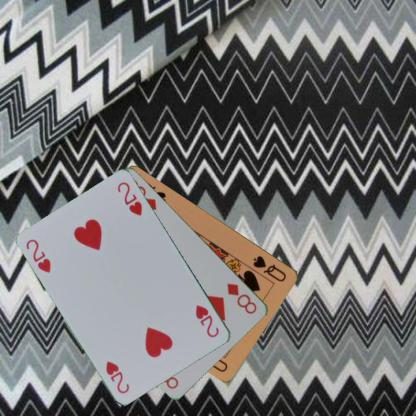2h: (23, 236, 52, 274), (193, 301, 221, 339)
8d: (225, 280, 258, 316)
Qs: (250, 253, 288, 283)
